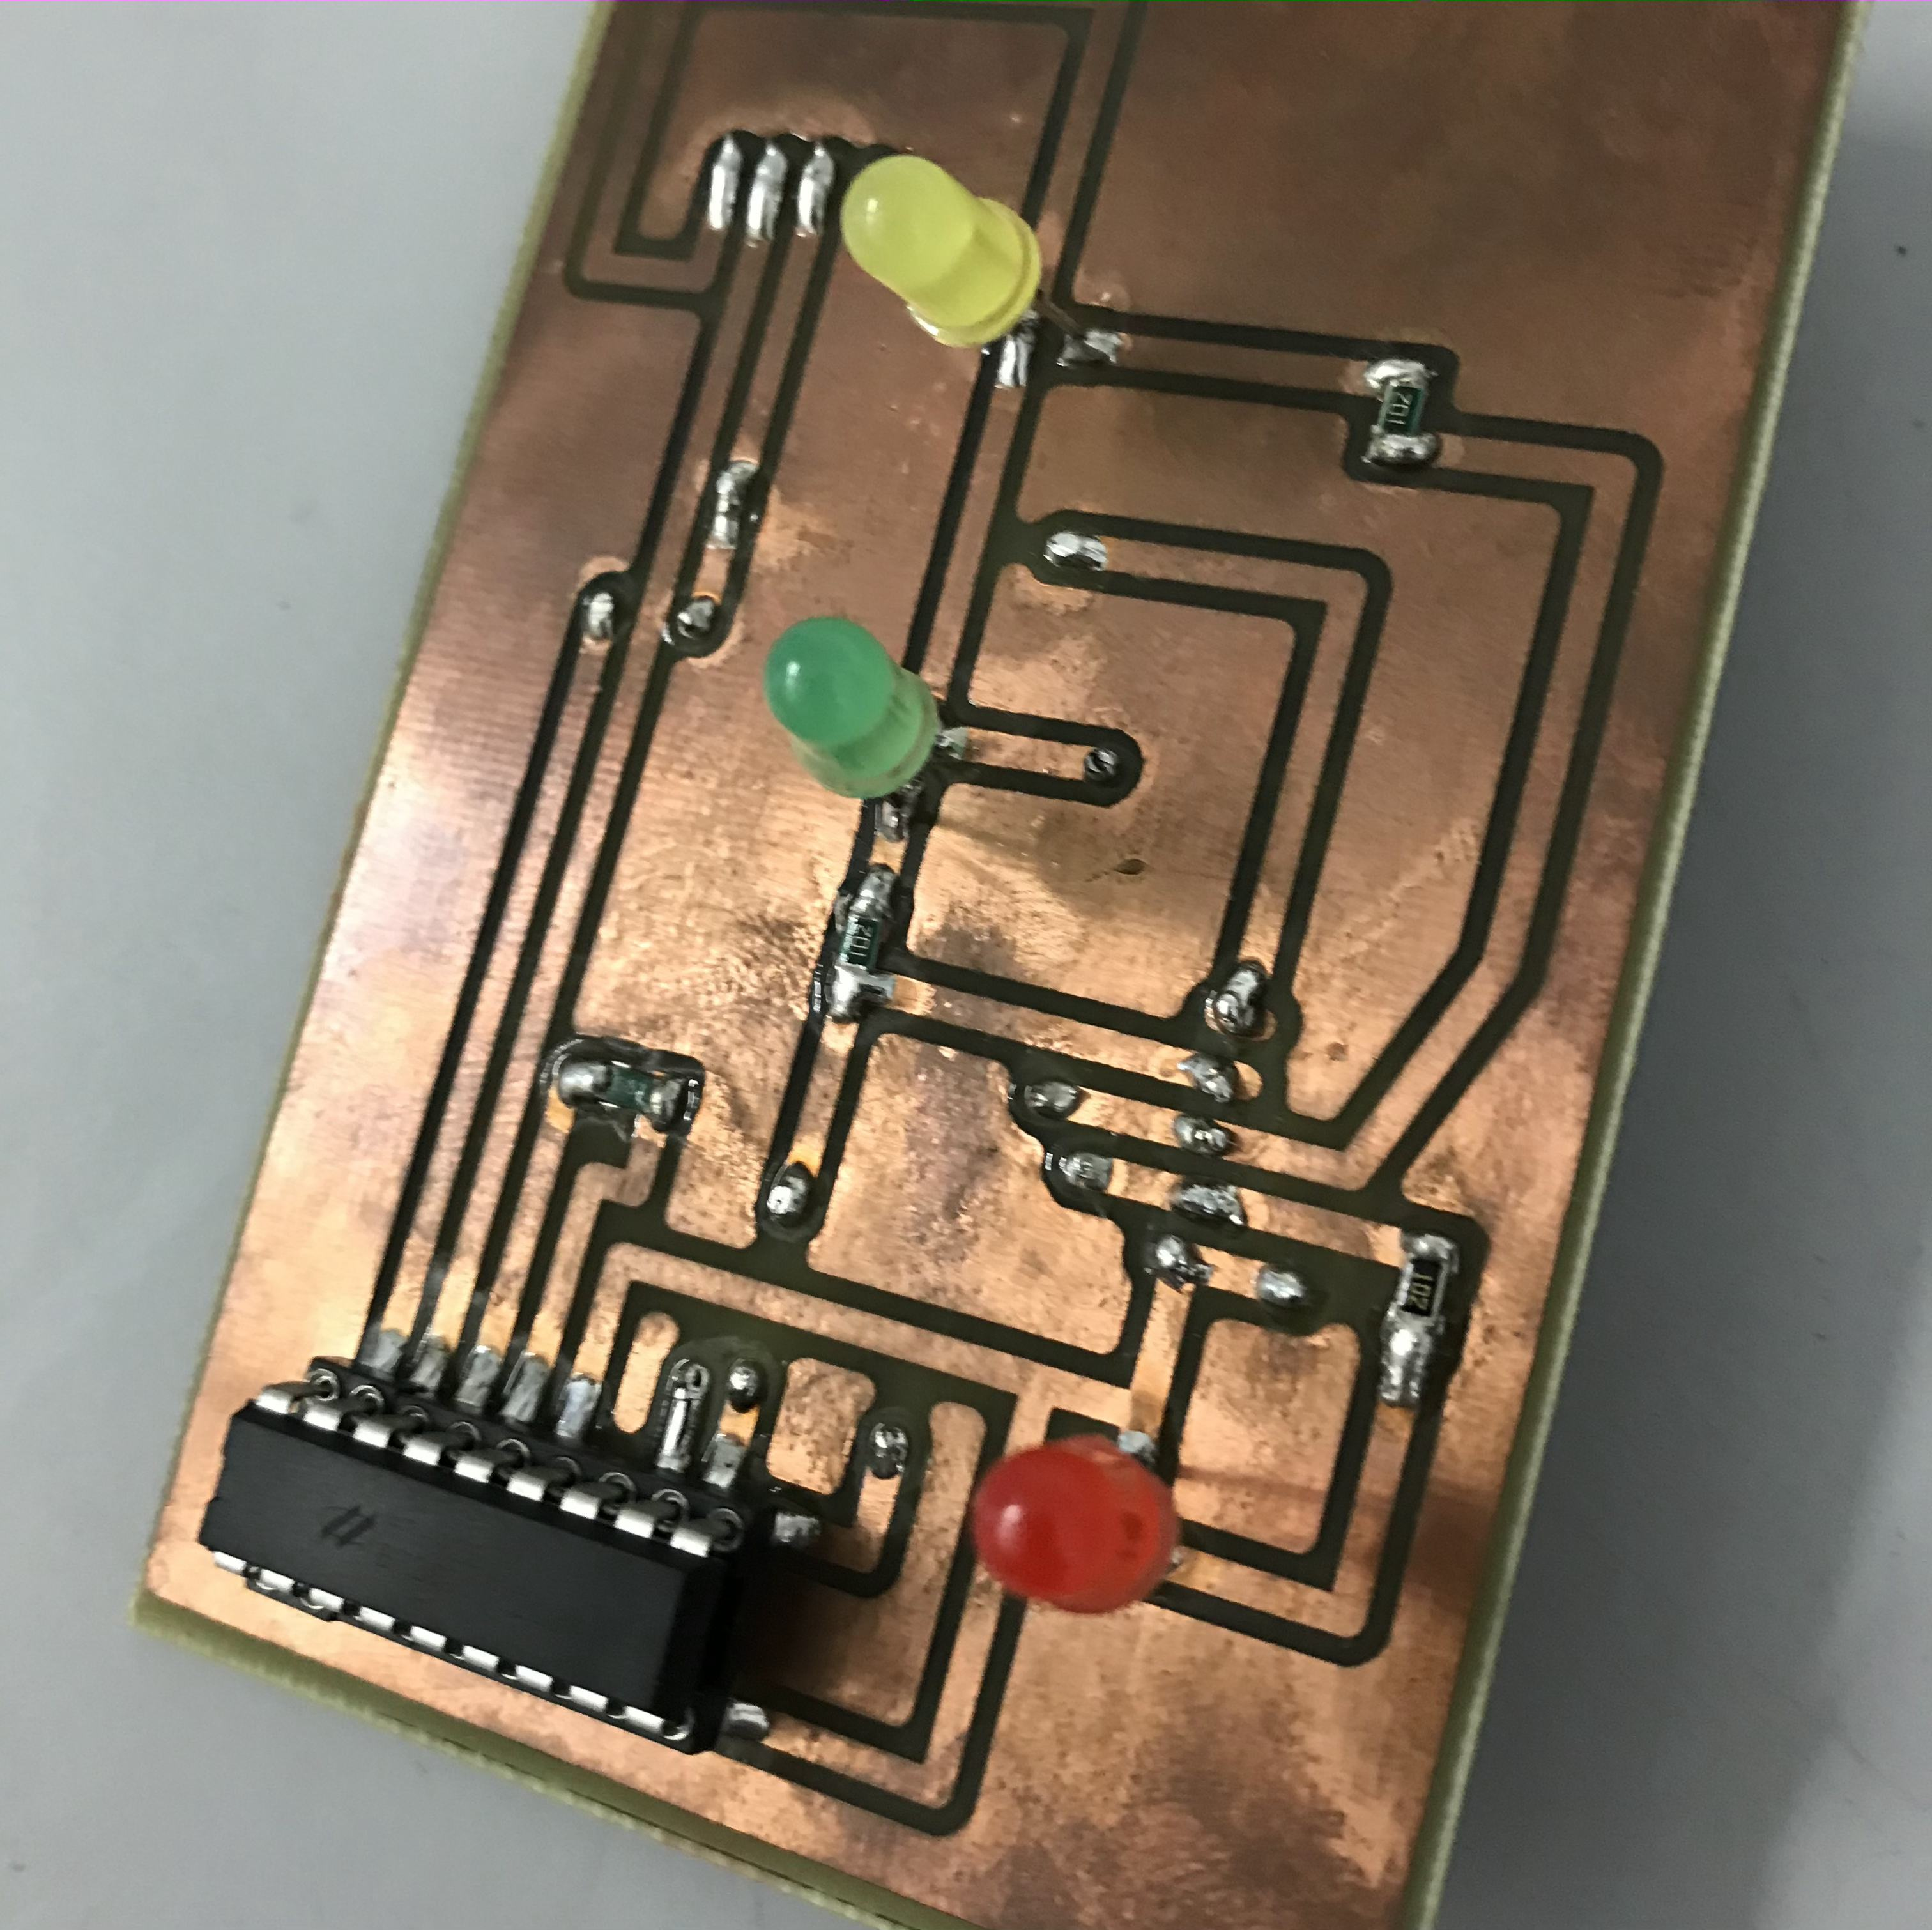LED: (831, 145, 1050, 353), (963, 1426, 1190, 1626), (760, 612, 944, 804)
